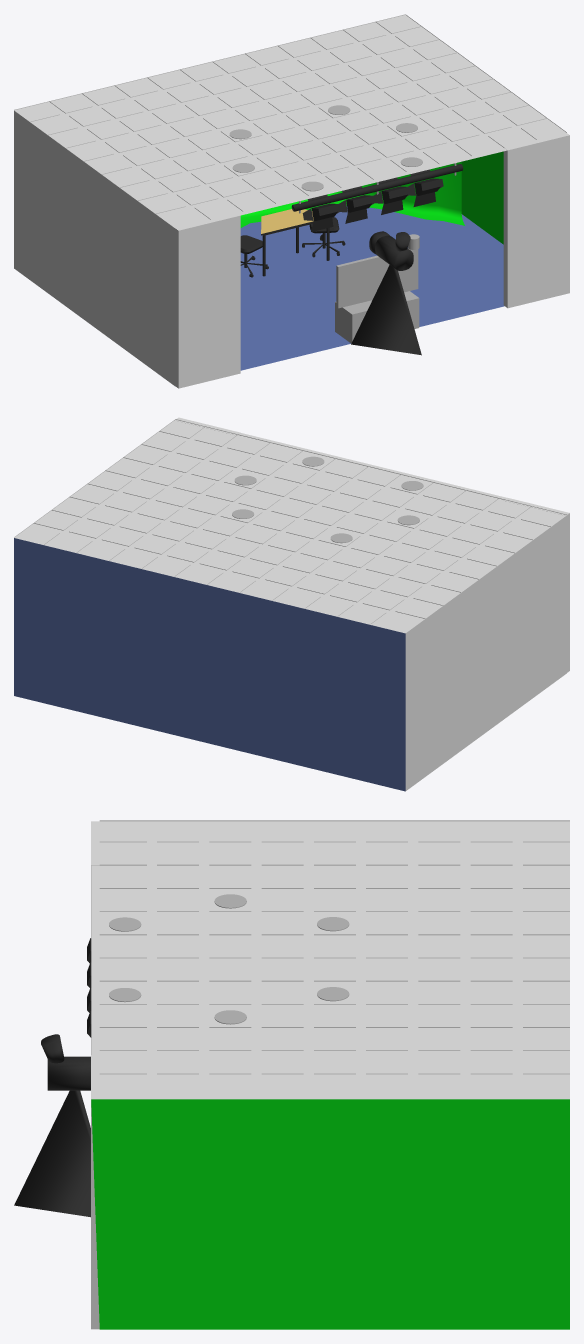
Rendered from PRISM.glb.
3 renders of one model, top to bottom at view 1: azimuth 30°, elevation 25°; view 2: azimuth 150°, elevation 25°; view 3: azimuth 270°, elevation 25°, orthographic. The views are drawn at different scales.
Parts seen in each view (by area): view 1: Plane; view 2: Plane; view 3: Plane.
Boxes of the visible parts, x1,y1,x2,y2 form: Plane: [14, 14, 569, 388]; Plane: [14, 417, 569, 791]; Plane: [14, 820, 569, 1329].
Size of the model in its own units: 7 by 2.71 by 5.91.
